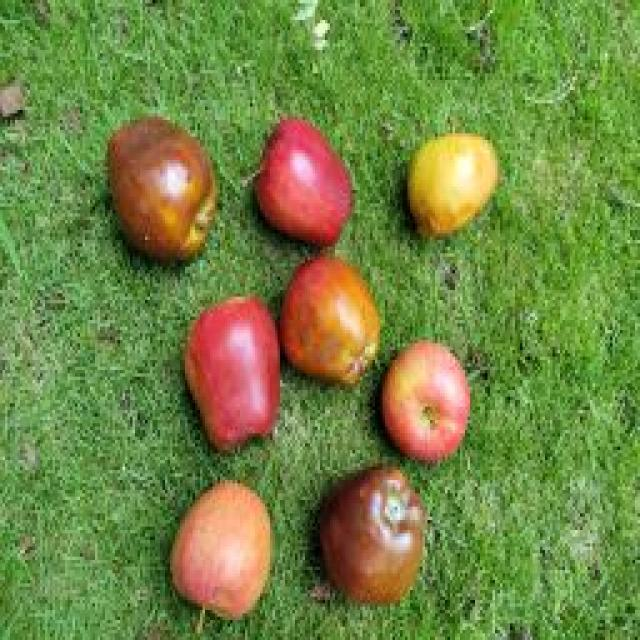Organik: (314, 446, 436, 614), (94, 116, 220, 270), (159, 475, 276, 632), (178, 290, 288, 445), (376, 317, 481, 471), (249, 111, 365, 250), (383, 116, 506, 238), (281, 247, 380, 396)
